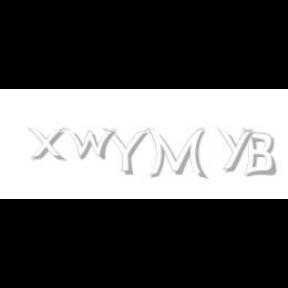B: (242, 128, 276, 178)
M: (146, 128, 206, 180)
Y: (102, 128, 148, 176)
w: (62, 128, 122, 160)
x: (28, 128, 70, 162)
y: (217, 128, 257, 172)
